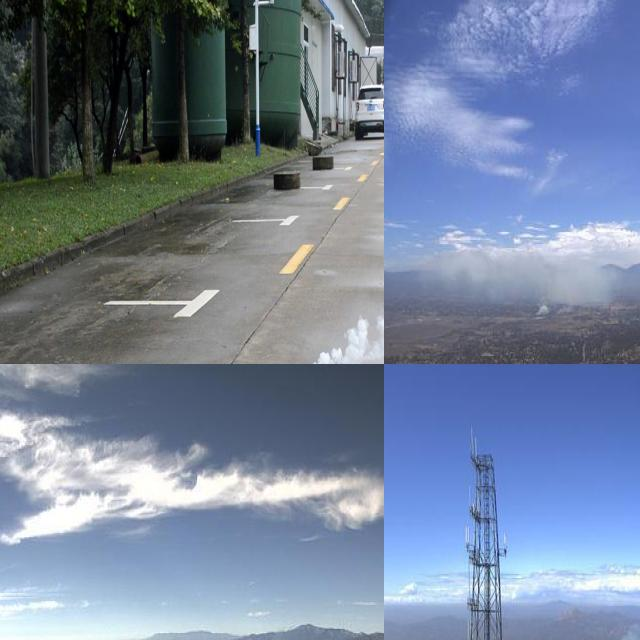smoke: (421, 237, 609, 319), (280, 223, 384, 364), (201, 628, 294, 640)
